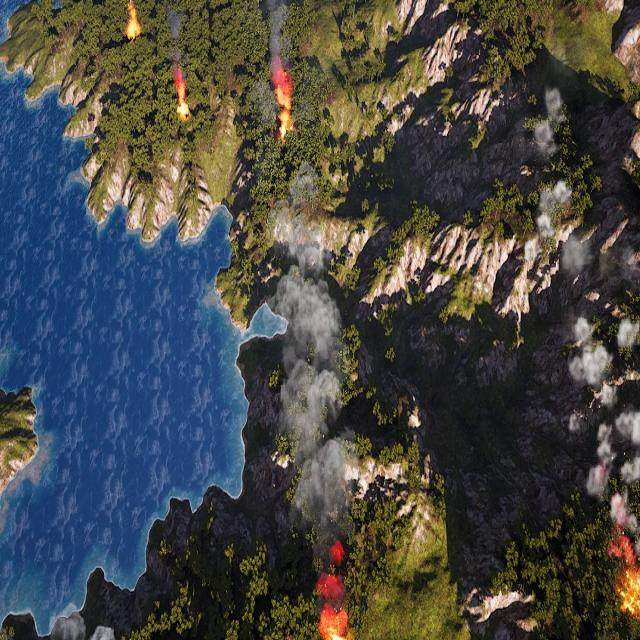fire: (274, 74, 294, 140), (318, 605, 349, 640), (621, 564, 640, 618), (127, 1, 141, 38), (176, 80, 189, 117), (278, 114, 291, 142)
smoke: (266, 164, 356, 640), (565, 315, 639, 549), (524, 181, 599, 278), (534, 84, 566, 160), (46, 611, 125, 640), (259, 0, 291, 71), (168, 9, 190, 86)
